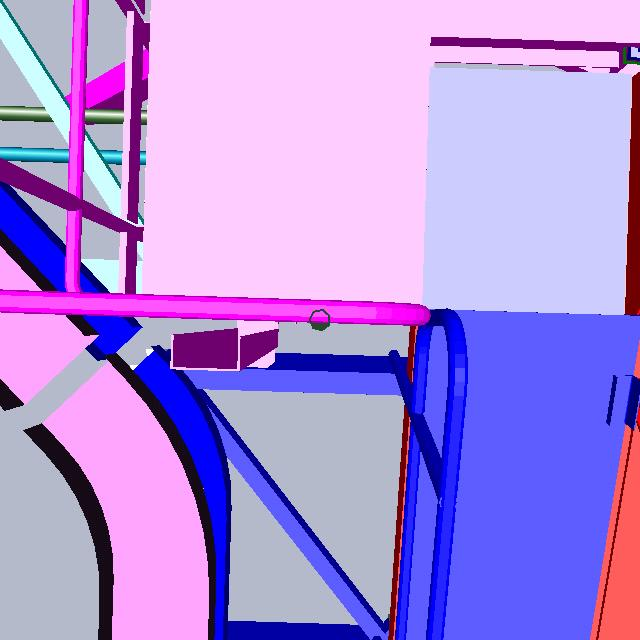Poste: (301, 295, 336, 344)
Soporte: (155, 289, 289, 399)
